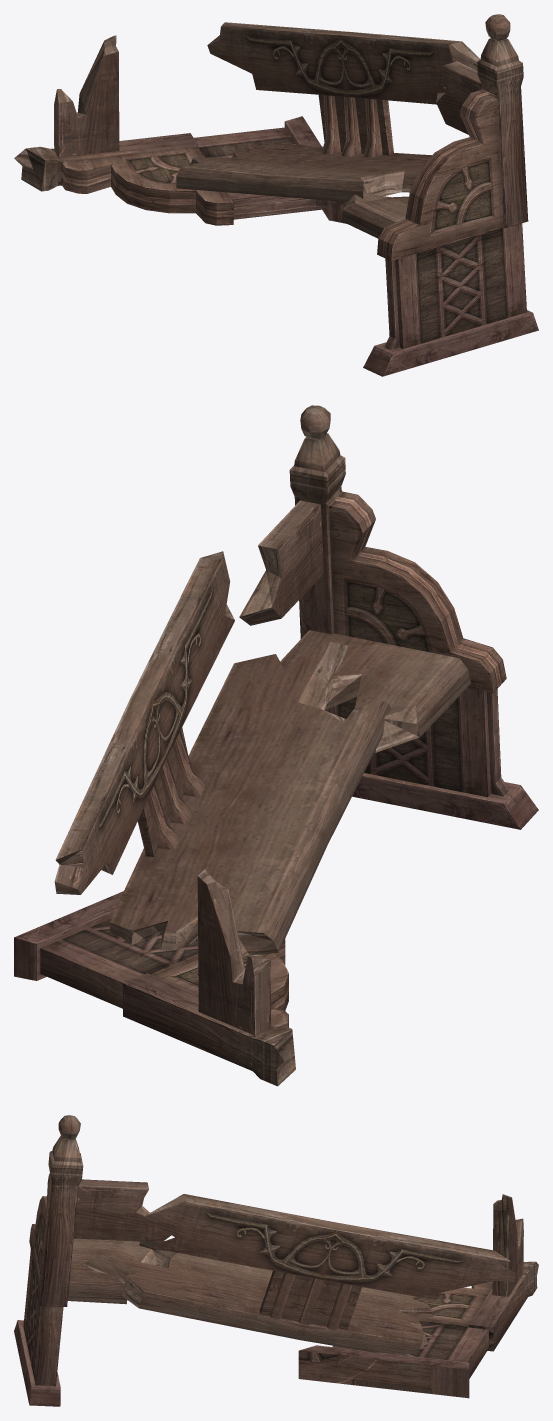
The model's file is bg_lut_lucastle_churchinchair02_sm_khg.FBX.
The picture shows the model from 3 angles, top to bottom: view 1: azimuth 30°, elevation 25°; view 2: azimuth 150°, elevation 25°; view 3: azimuth 270°, elevation 25°; orthographic projection. The views are drawn at different scales.
Visible parts, largest first — view 1: bg_lut_lucastle_churchinchair02_sm_khg; view 2: bg_lut_lucastle_churchinchair02_sm_khg; view 3: bg_lut_lucastle_churchinchair02_sm_khg.
Part boxes in pixels (x1,y1,x2,y2): bg_lut_lucastle_churchinchair02_sm_khg: (14,14,538,376); bg_lut_lucastle_churchinchair02_sm_khg: (14,405,538,1086); bg_lut_lucastle_churchinchair02_sm_khg: (14,1115,538,1406).
Bounding box in the file's own units: 136 × 151 × 254.
